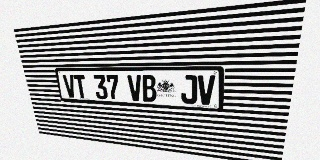3: (93, 75, 108, 100)
7: (105, 75, 121, 100)
B: (141, 75, 157, 102)
J: (181, 75, 197, 104)
T: (73, 75, 88, 98)
V: (198, 75, 215, 105), (127, 75, 143, 101), (62, 75, 77, 98)
